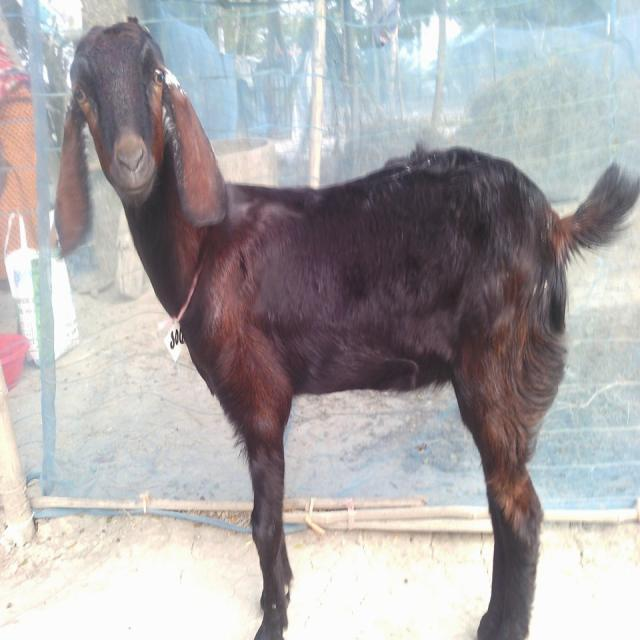Goat: (51, 14, 638, 638)
